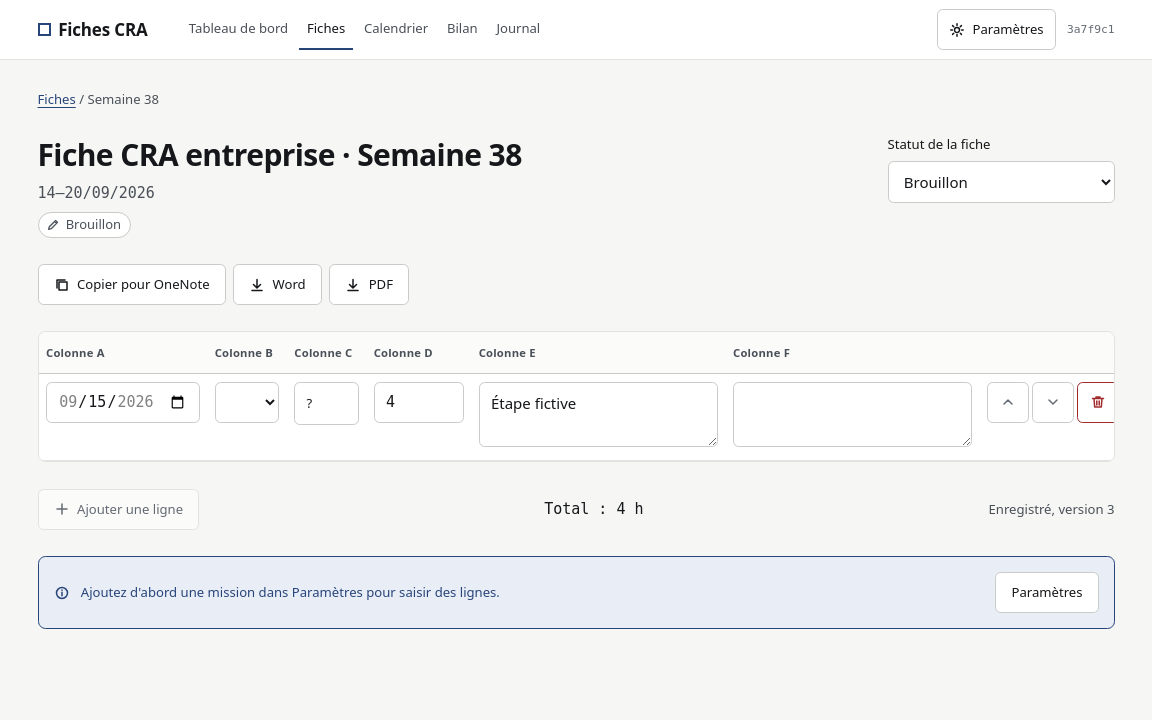
Éditeur de fiche › une erreur 422 s'affiche sous le champ concerné
Replace the text in the number field named "Durée en heures de la ligne 1" with "1.1" at [419, 402], box [374,382,464,423]
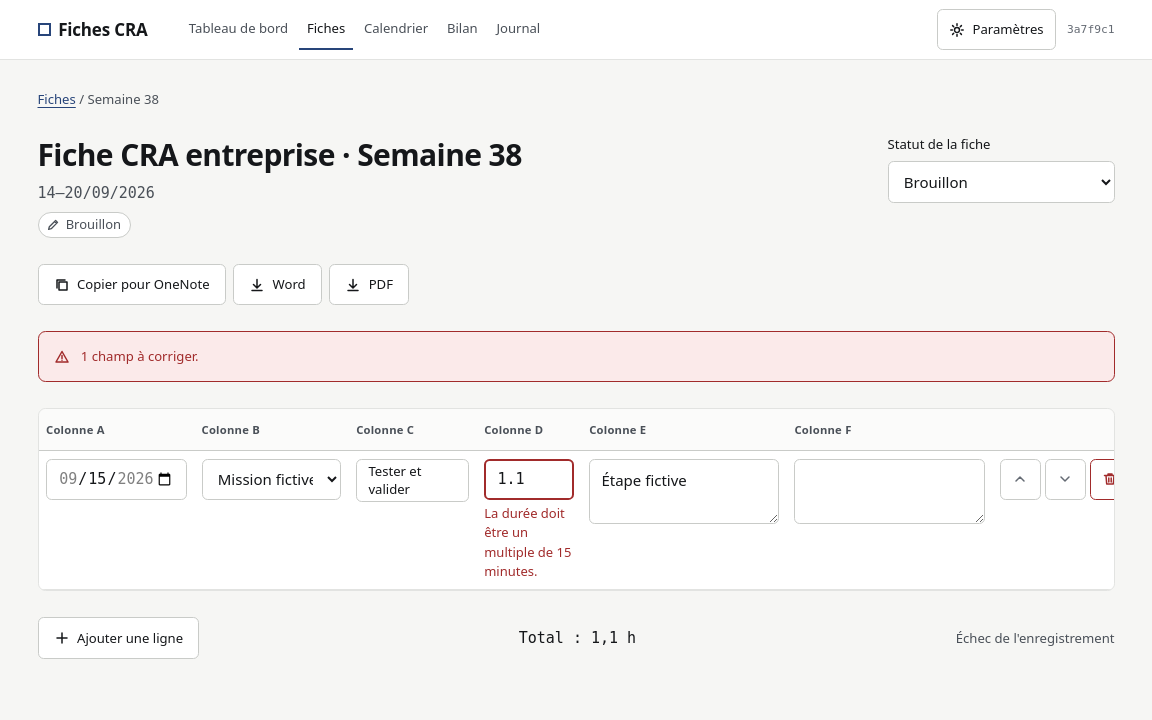
Now the text "La durée doit être un multiple de 15 minutes." is shown, box [484,504,574,582]
